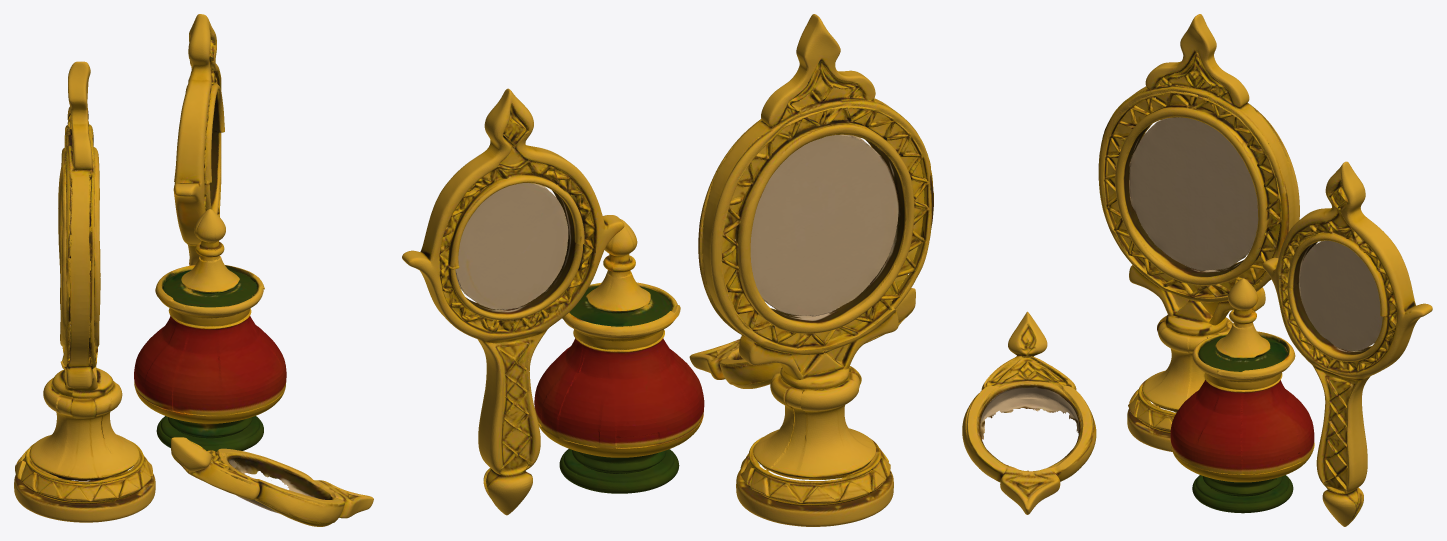
The model's file is aranmulaKannadi.glb.
3 renders of one model, left to right at view 1: azimuth 30°, elevation 25°; view 2: azimuth 150°, elevation 25°; view 3: azimuth 270°, elevation 25°, orthographic. The views are drawn at different scales.
Visible parts, largest first — view 1: tripo_node_a541de57-6795-44fe-8369-82135bb49a8a; view 2: tripo_node_a541de57-6795-44fe-8369-82135bb49a8a; view 3: tripo_node_a541de57-6795-44fe-8369-82135bb49a8a.
Boxes of the visible parts, x1,y1,x2,y2 form: tripo_node_a541de57-6795-44fe-8369-82135bb49a8a: (14,14,373,526); tripo_node_a541de57-6795-44fe-8369-82135bb49a8a: (402,14,933,526); tripo_node_a541de57-6795-44fe-8369-82135bb49a8a: (962,14,1432,526).
Bounding box in the file's own units: 0.6878 × 0.9279 × 0.945.
Materials: 1 (1 with a texture image).
